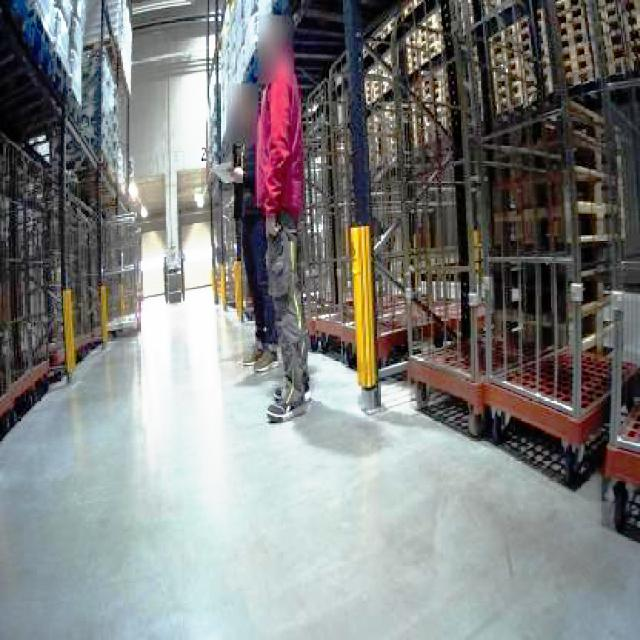ground: (0, 282, 638, 638)
pallet: (300, 0, 638, 492), (305, 288, 483, 371), (600, 286, 638, 563)
